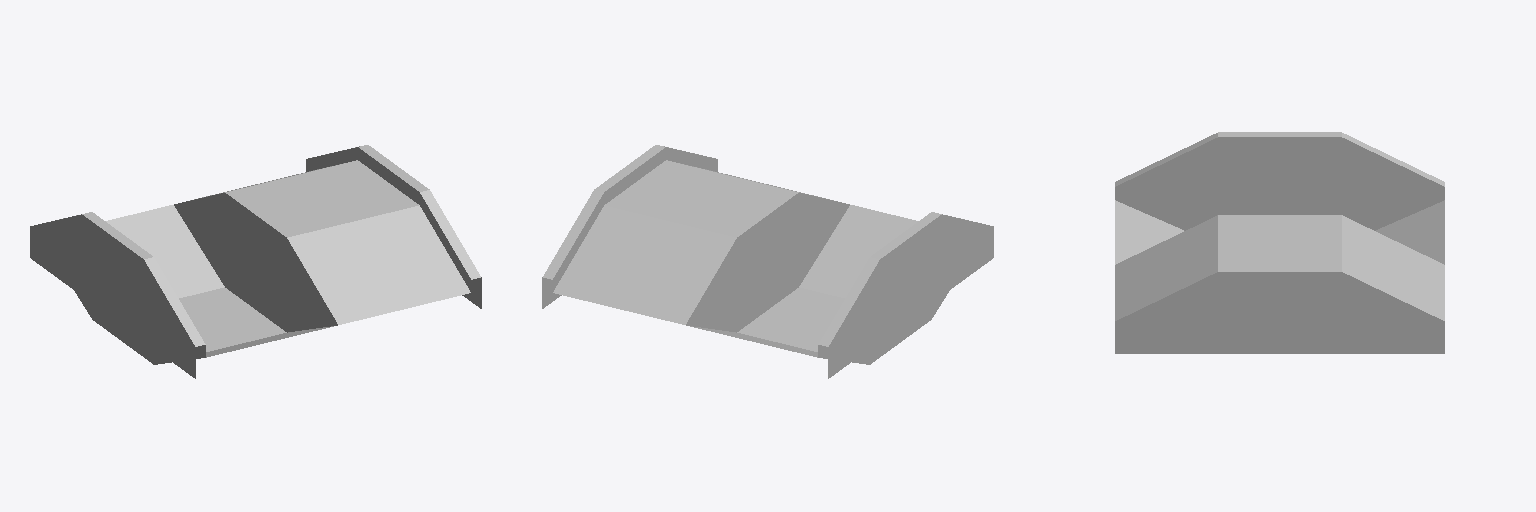
The model's file is twoRamp_A_3x3.obj.
The picture shows the model from 3 angles: view 1: azimuth 30°, elevation 25°; view 2: azimuth 150°, elevation 25°; view 3: azimuth 270°, elevation 25°; orthographic projection.
Visible parts, largest first — view 1: twoRamp_A_3x3; view 2: twoRamp_A_3x3; view 3: twoRamp_A_3x3.
Part boxes in pixels (left/top/right/bottom): twoRamp_A_3x3: left=30, top=145, right=481, bottom=378; twoRamp_A_3x3: left=542, top=145, right=993, bottom=378; twoRamp_A_3x3: left=1115, top=132, right=1444, bottom=353.
Bounding box in the file's own units: 3 × 1.08 × 3.